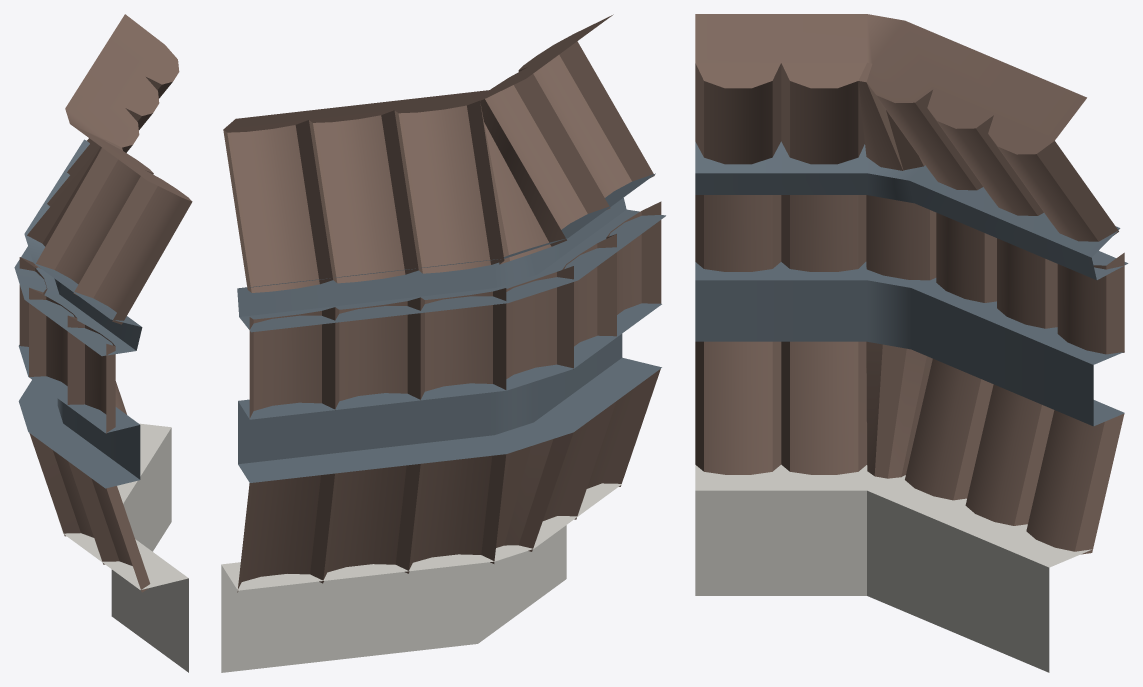
The model's file is MSH_Corner_01.fbx.
3 views of the same model, side by side, from view 1: azimuth 30°, elevation 25°; view 2: azimuth 150°, elevation 25°; view 3: azimuth 270°, elevation 25° (orthographic). The views are drawn at different scales.
Visible parts, largest first — view 1: MSH_Corner_01; view 2: MSH_Corner_01; view 3: MSH_Corner_01.
Part boxes in pixels (x1,y1,x2,y2): MSH_Corner_01: (14, 14, 192, 672); MSH_Corner_01: (221, 14, 665, 672); MSH_Corner_01: (695, 14, 1128, 672).
Size of the model in its own units: 172 by 359 by 252.
